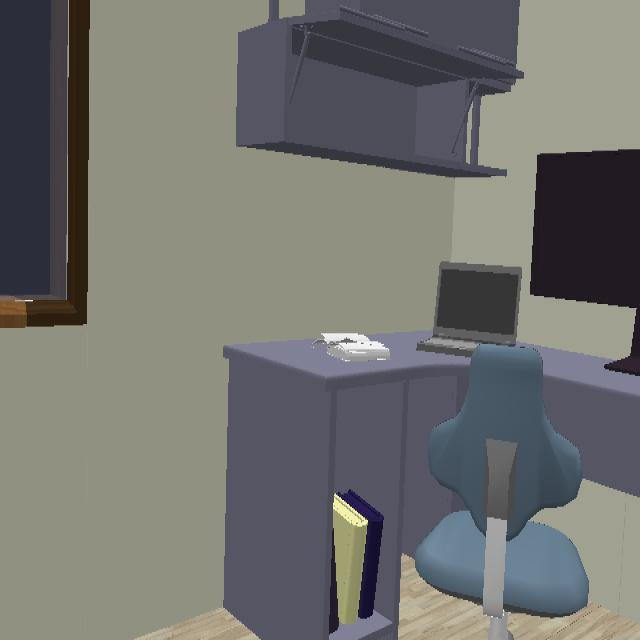book: (332, 490, 384, 624), (314, 333, 390, 362)
cabinet: (236, 0, 524, 177)
chair: (415, 343, 589, 638)
laptop: (416, 264, 521, 356)
monitor: (530, 151, 640, 376)
table: (224, 332, 469, 638), (538, 347, 640, 496)
